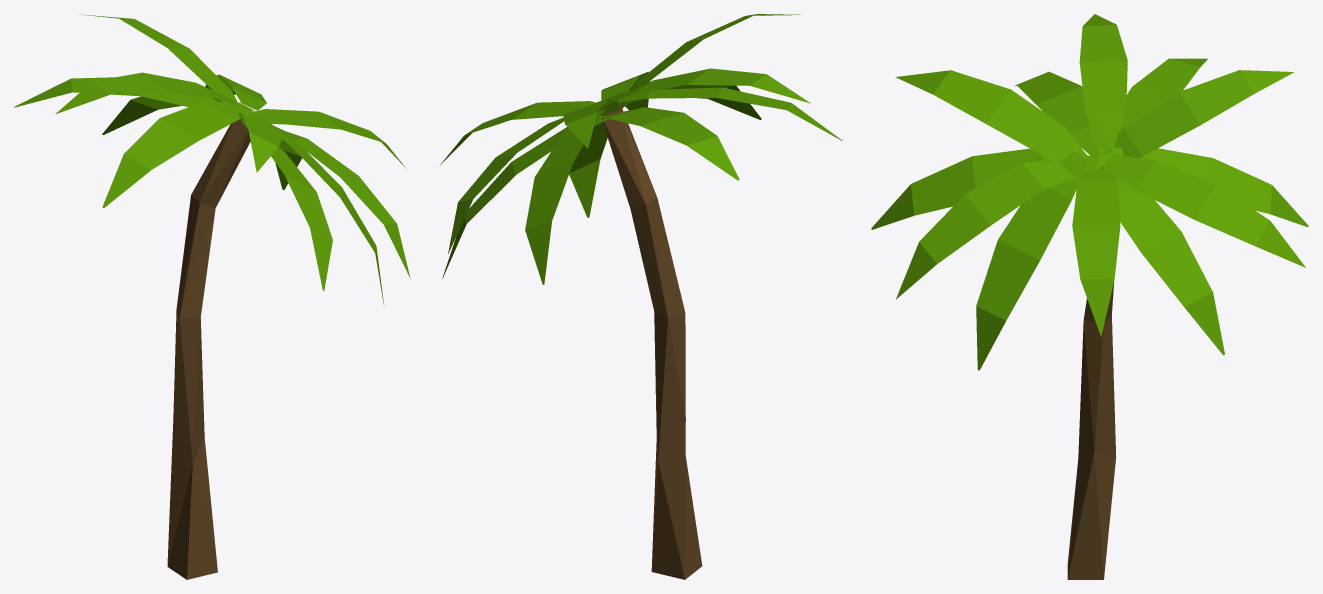
The model's file is trop-rain.average.lightgreen-op0.9.gltf.
3 renders of one model, left to right at view 1: azimuth 30°, elevation 25°; view 2: azimuth 150°, elevation 25°; view 3: azimuth 270°, elevation 25°, orthographic. The views are drawn at different scales.
Parts seen in each view (by area): view 1: Plane; view 2: Plane; view 3: Plane.
Part boxes in pixels (x1,y1,x2,y2): Plane: [14, 14, 410, 579]; Plane: [439, 14, 842, 579]; Plane: [871, 14, 1308, 579].
Size of the model in its own units: 0.7136 by 0.9534 by 0.7475.
Materials: 1 (1 with a texture image).
